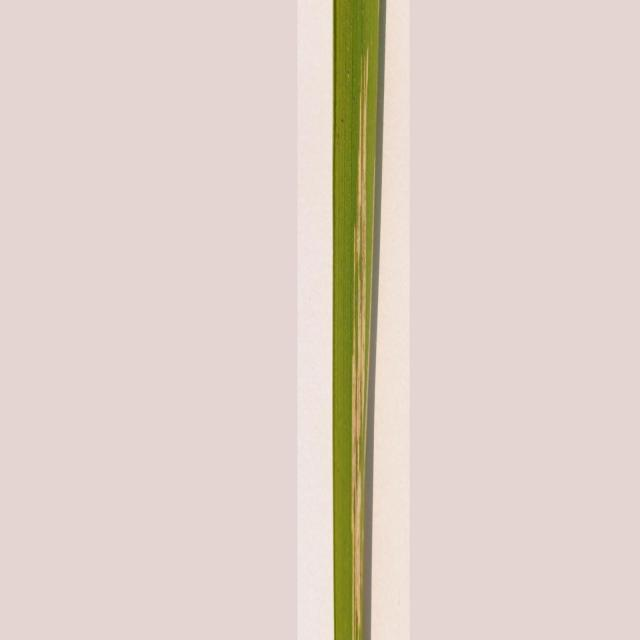Bacterial_Leaf_Blight: (322, 68, 390, 640)
